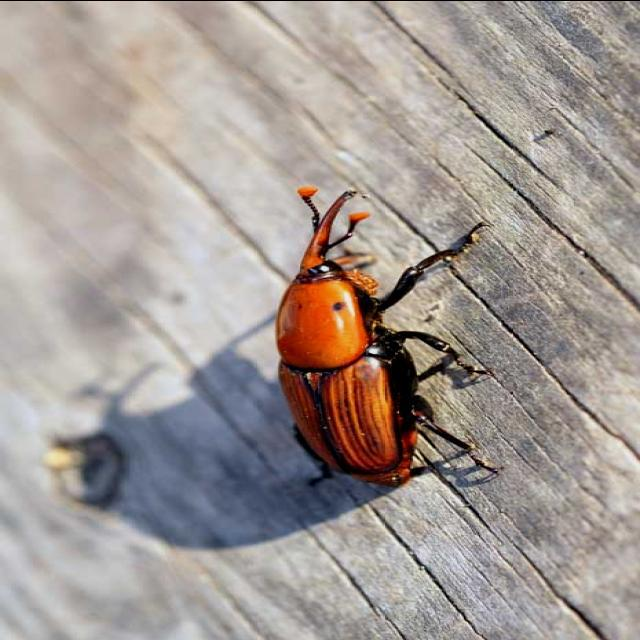Red-palm-weevil: (269, 186, 434, 490)
